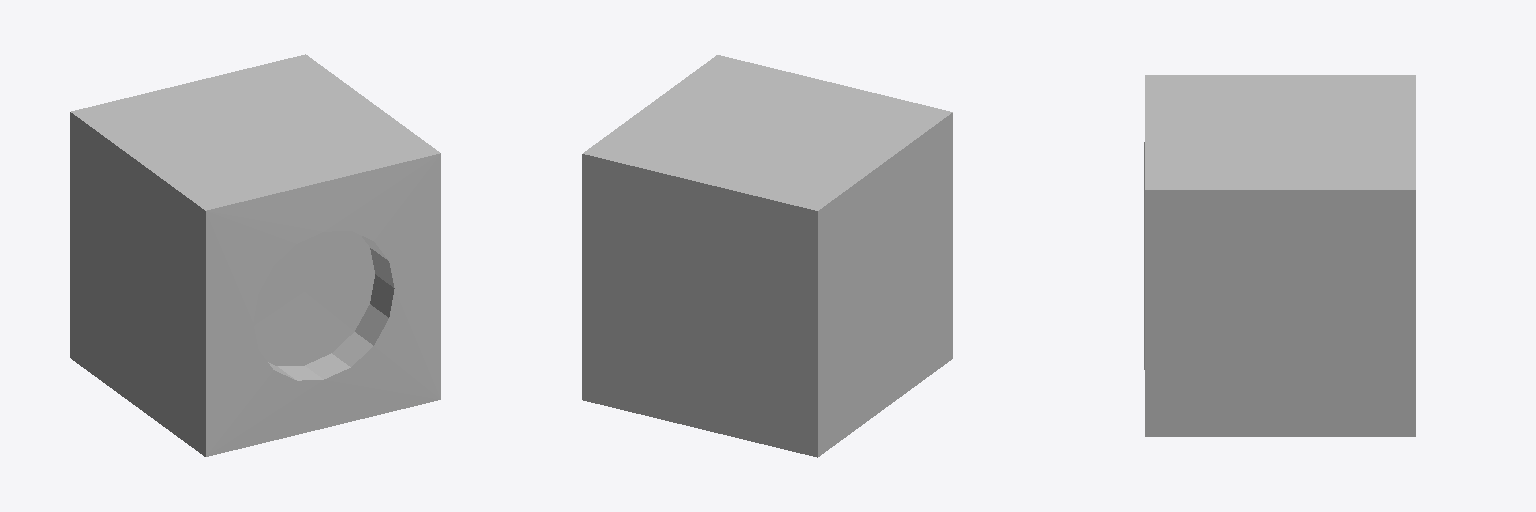
3 renders of one model, left to right at view 1: azimuth 30°, elevation 25°; view 2: azimuth 150°, elevation 25°; view 3: azimuth 270°, elevation 25°, orthographic.
Visible parts, largest first — view 1: Cube_Cube_None_QuartoPieces.png; view 2: Cube_Cube_None_QuartoPieces.png; view 3: Cube_Cube_None_QuartoPieces.png.
Boxes of the visible parts, box(x1,y1,x2,y2) form: Cube_Cube_None_QuartoPieces.png: box(70, 54, 440, 456); Cube_Cube_None_QuartoPieces.png: box(582, 55, 952, 457); Cube_Cube_None_QuartoPieces.png: box(1144, 75, 1415, 436).
Bounding box in the file's own units: 2 × 2 × 2.